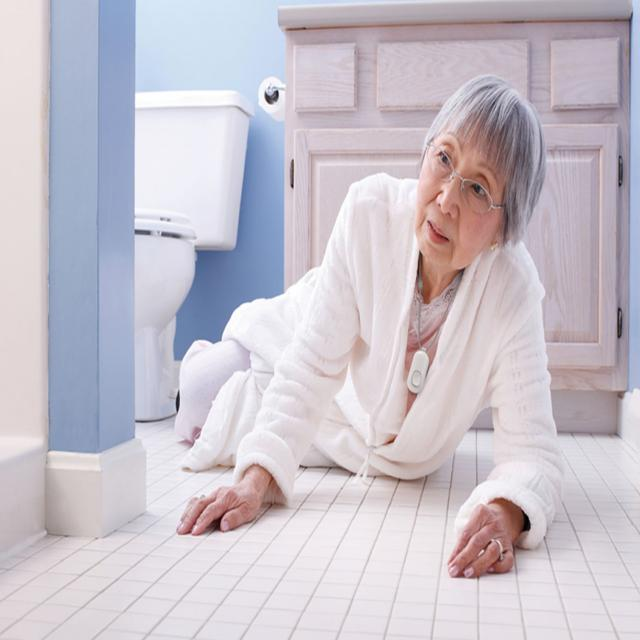Fall-Detected: (156, 61, 576, 580)
